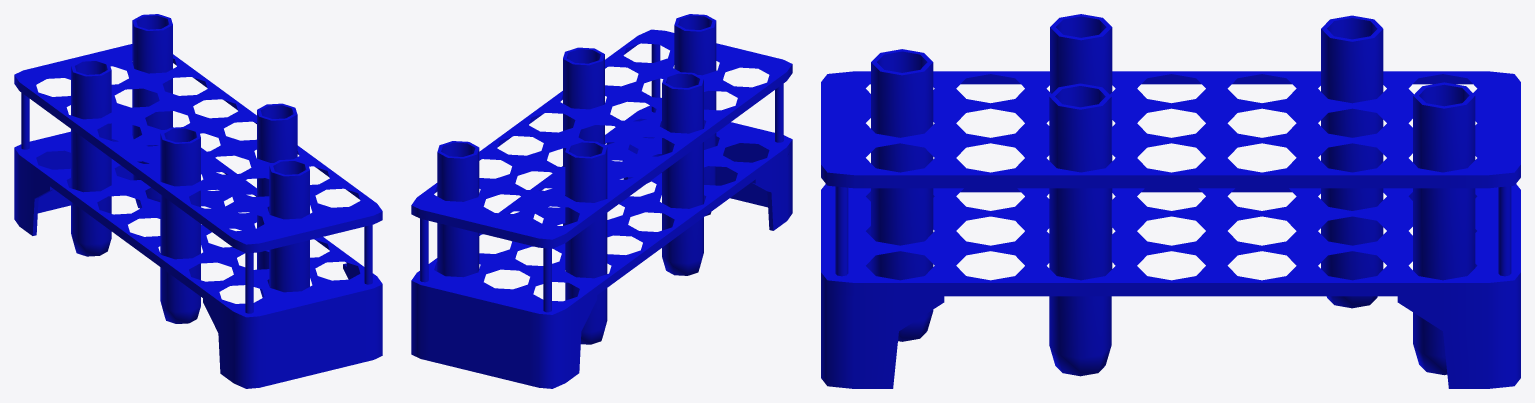
File: TTR_2.FBX
3 renders of one model, left to right at view 1: azimuth 30°, elevation 25°; view 2: azimuth 150°, elevation 25°; view 3: azimuth 270°, elevation 25°, orthographic. The views are drawn at different scales.
Parts seen in each view (by area): view 1: TestTube_Rack_2; view 2: TestTube_Rack_2; view 3: TestTube_Rack_2.
Part boxes in pixels (x1,y1,x2,y2): TestTube_Rack_2: (14,14,382,388); TestTube_Rack_2: (411,14,792,388); TestTube_Rack_2: (821,14,1520,388).
Bounding box in the file's own units: 1.75 × 2.16 × 4.97.
